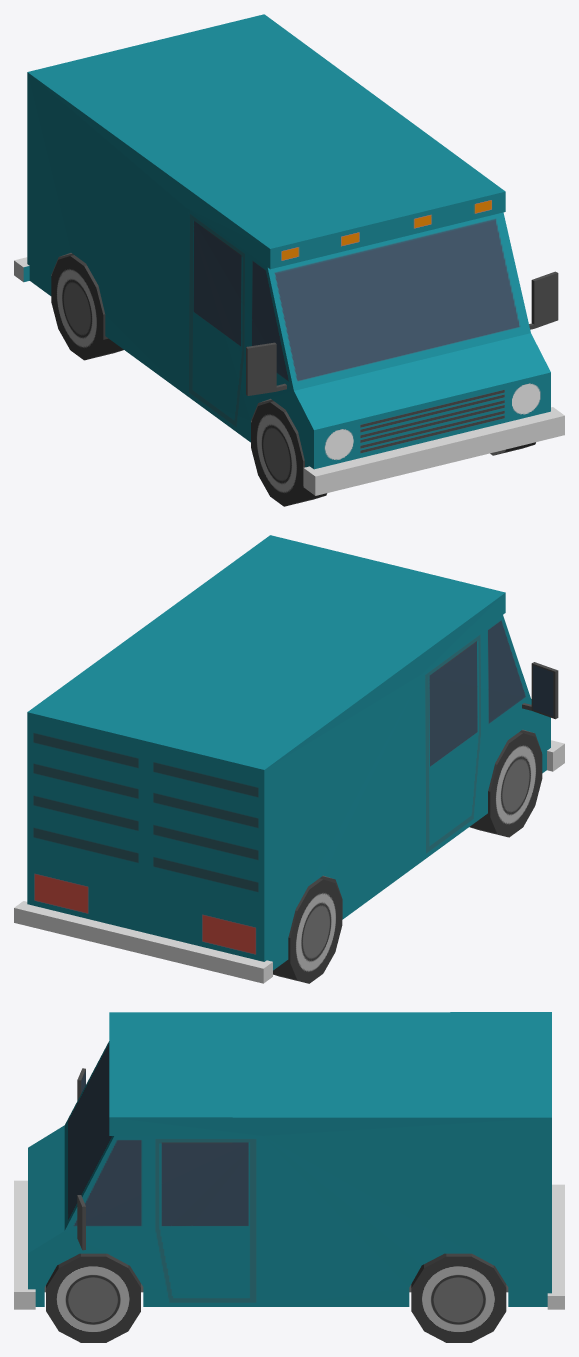
Rendered from Van.fbx.
3 views of the same model, one above another, from view 1: azimuth 30°, elevation 25°; view 2: azimuth 150°, elevation 25°; view 3: azimuth 270°, elevation 25° (orthographic). The views are drawn at different scales.
Parts seen in each view (by area): view 1: Van; view 2: Van; view 3: Van.
Part boxes in pixels (bbox=[...]): Van: bbox=[14, 14, 564, 506]; Van: bbox=[14, 535, 564, 983]; Van: bbox=[14, 1012, 564, 1342].
Size of the model in its own units: 283 by 214 by 476.
